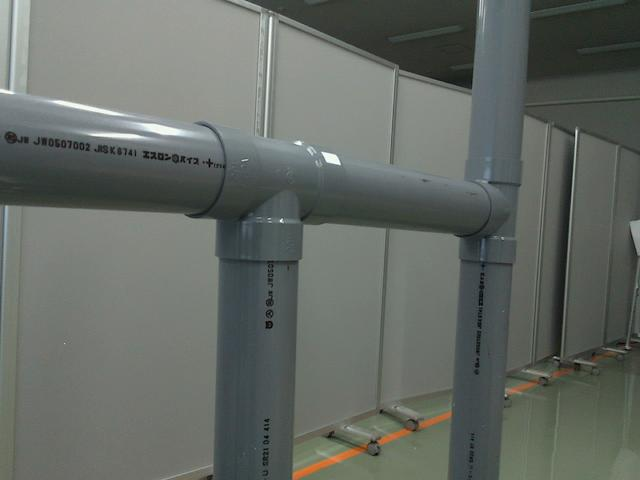junction: (180, 120, 345, 257), (453, 163, 525, 273)
